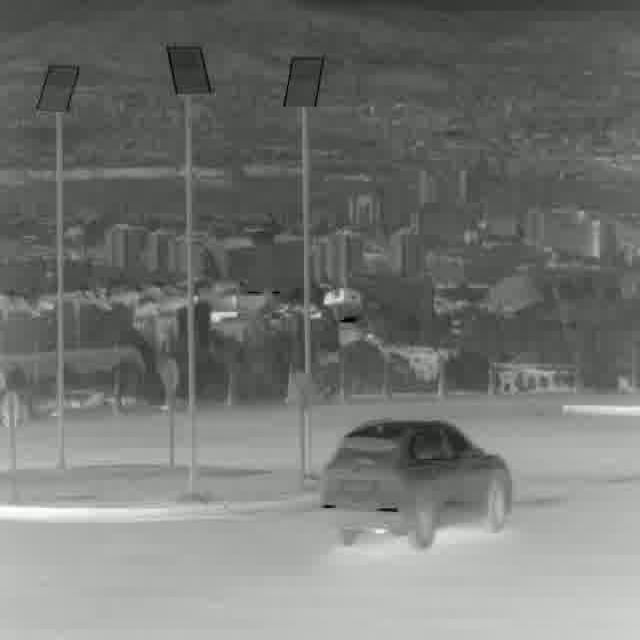Car: (320, 418, 512, 542)
